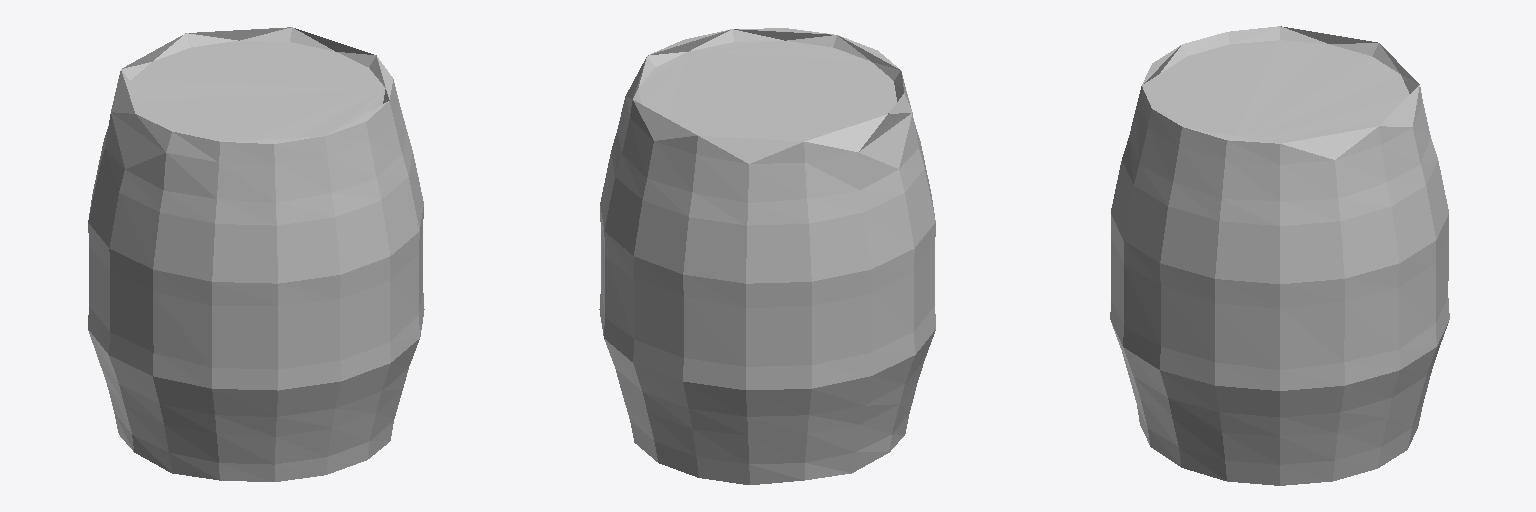
Rendered from Barrel_LOD1.obj.
3 renders of one model, left to right at view 1: azimuth 30°, elevation 25°; view 2: azimuth 150°, elevation 25°; view 3: azimuth 270°, elevation 25°, orthographic.
Parts seen in each view (by area): view 1: Barrel; view 2: Barrel; view 3: Barrel.
Boxes of the visible parts, x1=… form: Barrel: x1=88, y1=27, x2=424, y2=481; Barrel: x1=599, y1=28, x2=935, y2=484; Barrel: x1=1110, y1=26, x2=1449, y2=485.
Bounding box in the file's own units: 0.8295 × 0.9246 × 0.8294.